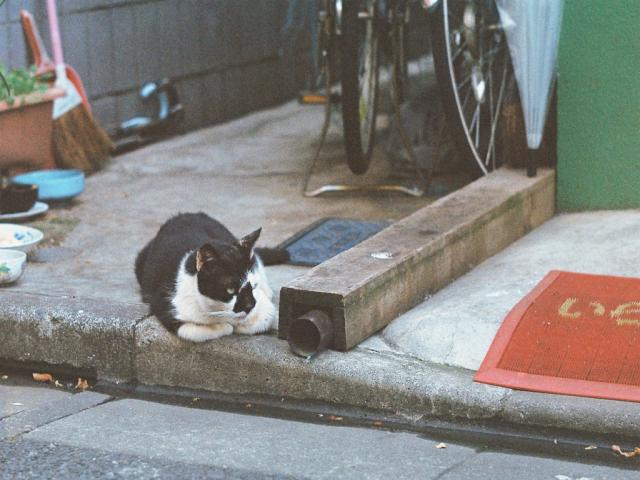Cat: (134, 215, 274, 344)
